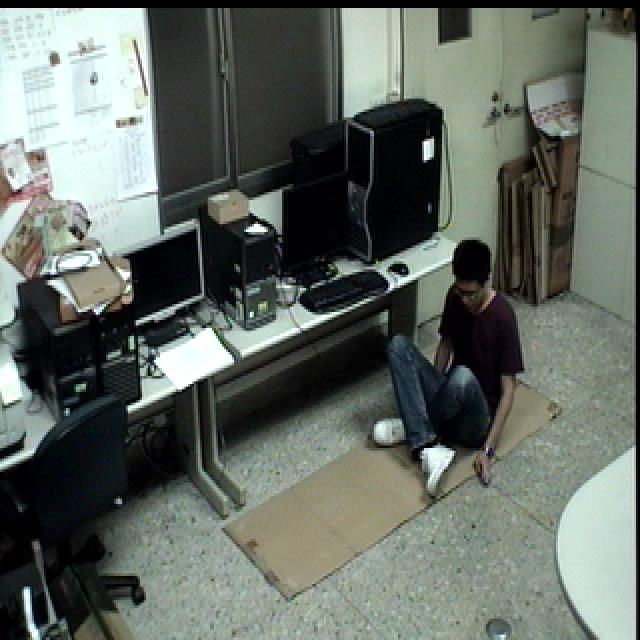sit: (364, 232, 528, 513)
